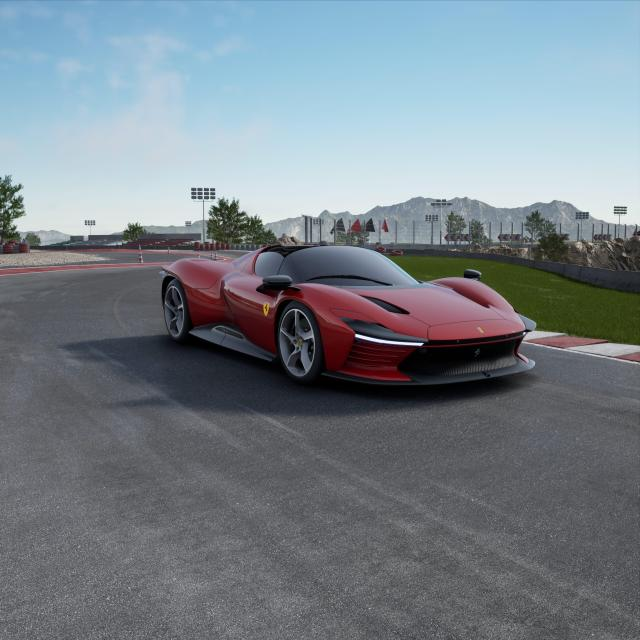cars22: (154, 237, 539, 392)
